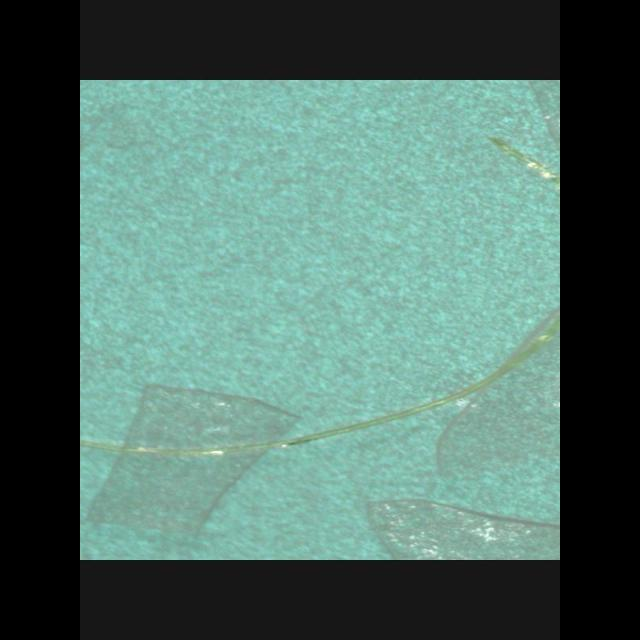Fibre: (80, 137, 560, 460)
